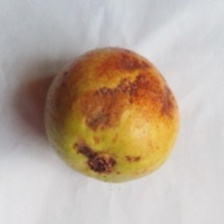guava: (7, 47, 205, 182)
